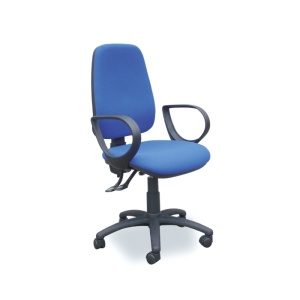chair: (89, 43, 215, 264)
